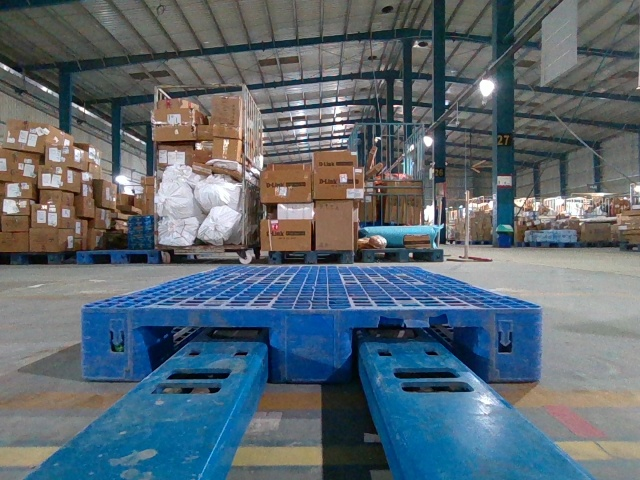block: (269, 309, 351, 385), (81, 308, 143, 383), (485, 308, 541, 385)
front: (82, 306, 541, 380)
hole pallet: (349, 328, 488, 385), (141, 326, 268, 385)
